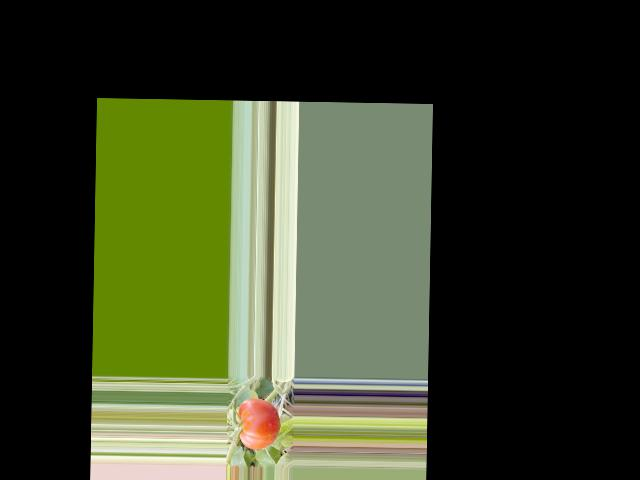tomato: (238, 397, 281, 449)
